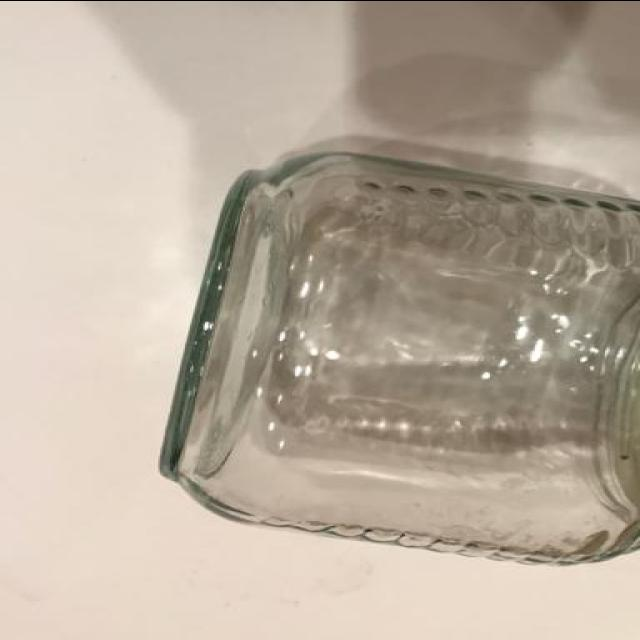litter: (146, 142, 638, 572)
